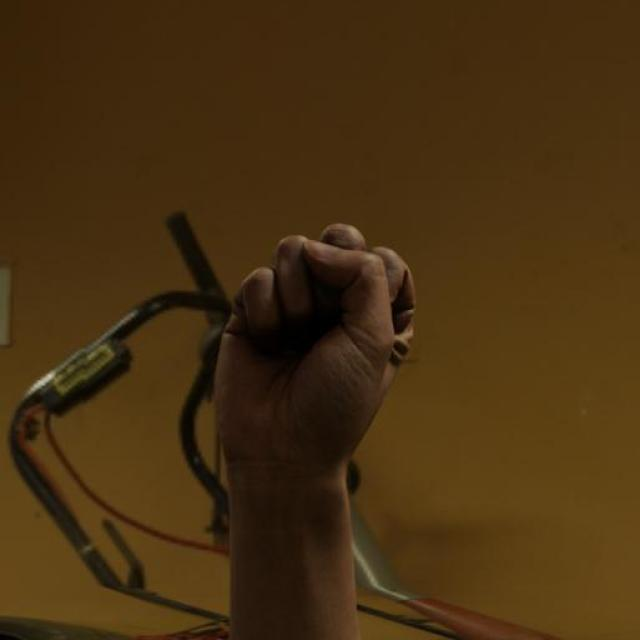S: (205, 219, 419, 469)
